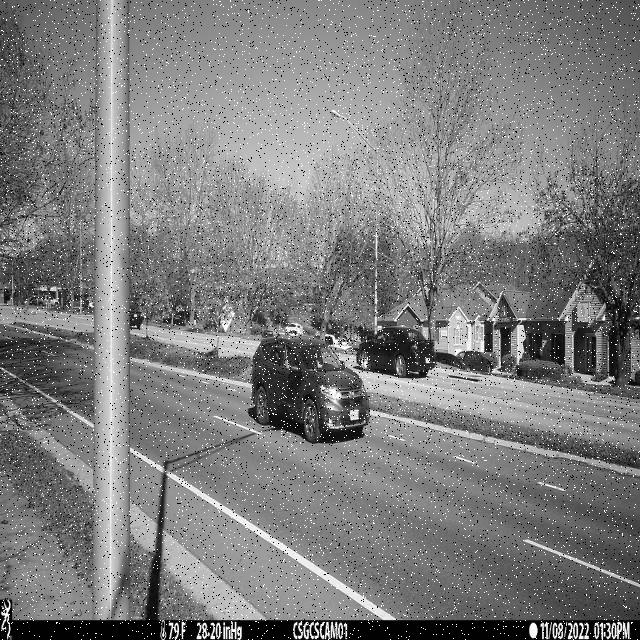SUV: (251, 335, 370, 443)
